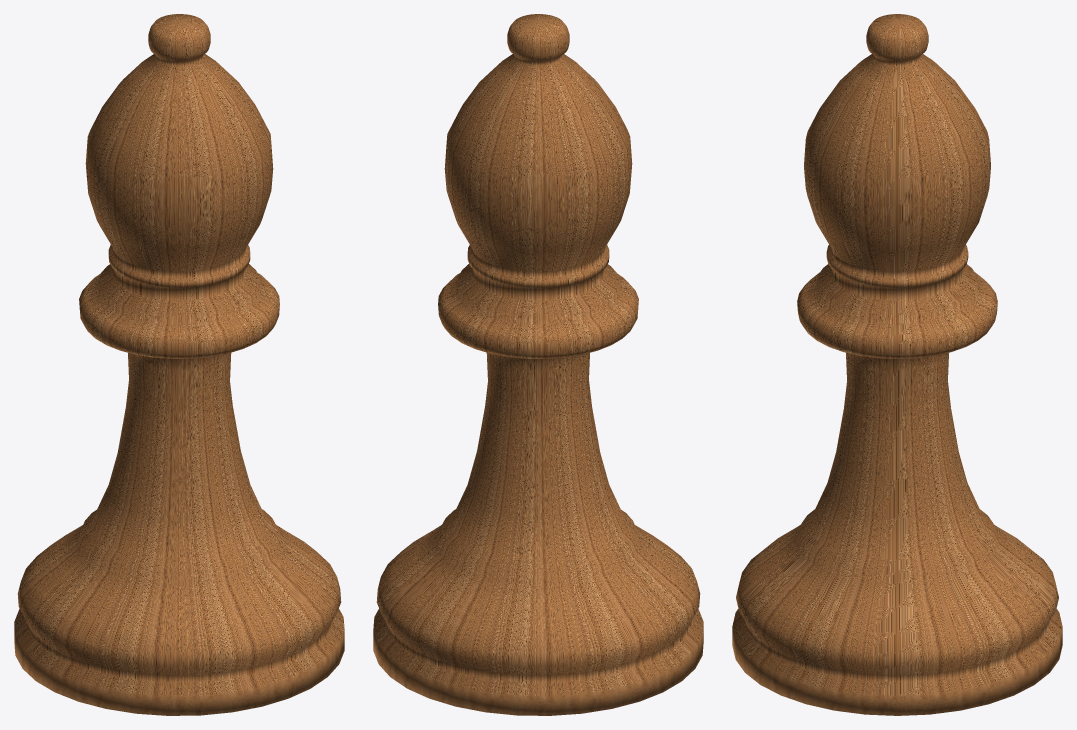
File: Bishop.gltf
The picture shows the model from 3 angles, left to right: view 1: azimuth 30°, elevation 25°; view 2: azimuth 150°, elevation 25°; view 3: azimuth 270°, elevation 25°; orthographic projection.
Visible parts, largest first — view 1: BlackBishop.003; view 2: BlackBishop.003; view 3: BlackBishop.003.
Boxes of the visible parts, x1,y1,x2,y2 form: BlackBishop.003: (14, 14, 344, 715); BlackBishop.003: (373, 14, 703, 715); BlackBishop.003: (732, 14, 1062, 715).
Size of the model in its own units: 0.0371 by 0.0772 by 0.0369.
Materials: 1 (1 with a texture image).
